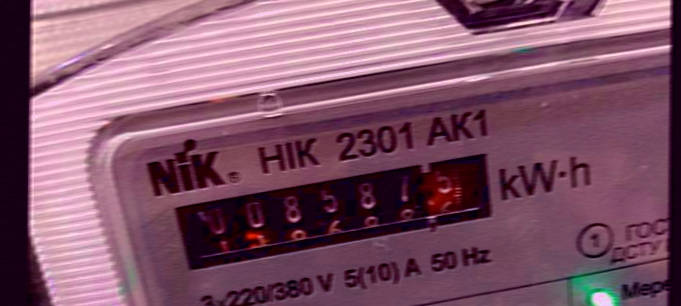0: (242, 196, 268, 231), (204, 204, 230, 236)
5: (318, 184, 342, 216), (432, 164, 455, 195)
6: (437, 199, 455, 216)
7: (393, 172, 416, 206)
8: (355, 179, 379, 212), (281, 193, 305, 225)
screen: (167, 150, 515, 276)
